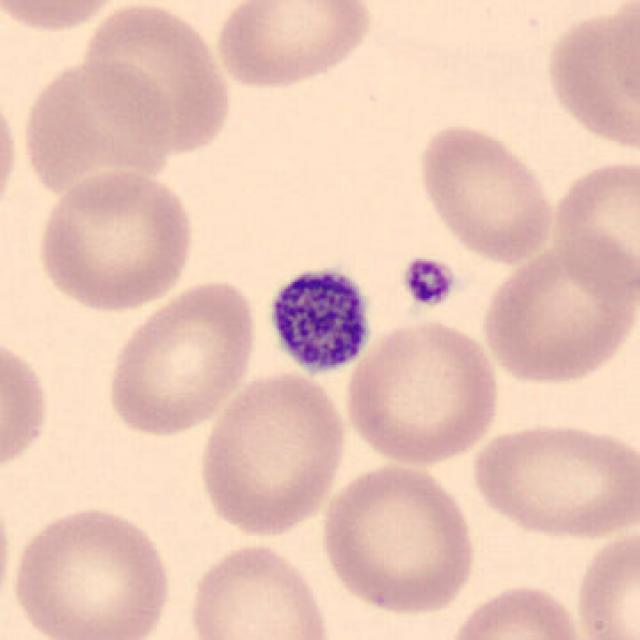Platelets: (260, 259, 375, 379), (398, 254, 459, 310)
RBC: (194, 366, 350, 540), (314, 458, 482, 617), (101, 275, 262, 439), (476, 232, 638, 390), (341, 314, 505, 469), (78, 2, 235, 160), (32, 166, 199, 314), (7, 500, 176, 640), (18, 53, 176, 197), (412, 118, 560, 265), (468, 418, 638, 543), (183, 539, 336, 640), (211, 0, 376, 93), (540, 2, 638, 155), (547, 153, 640, 301), (443, 580, 590, 640), (0, 328, 55, 485), (570, 523, 638, 640), (0, 0, 135, 35), (0, 79, 23, 224), (0, 478, 16, 626)
